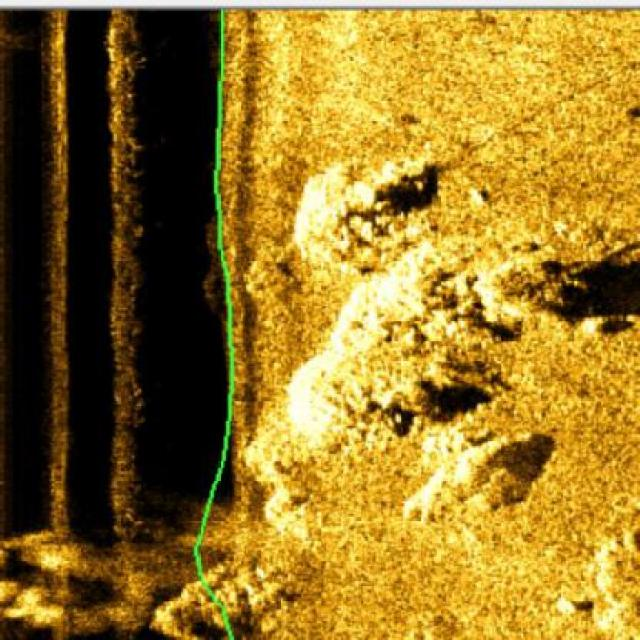bedrock group: (141, 139, 639, 639)
